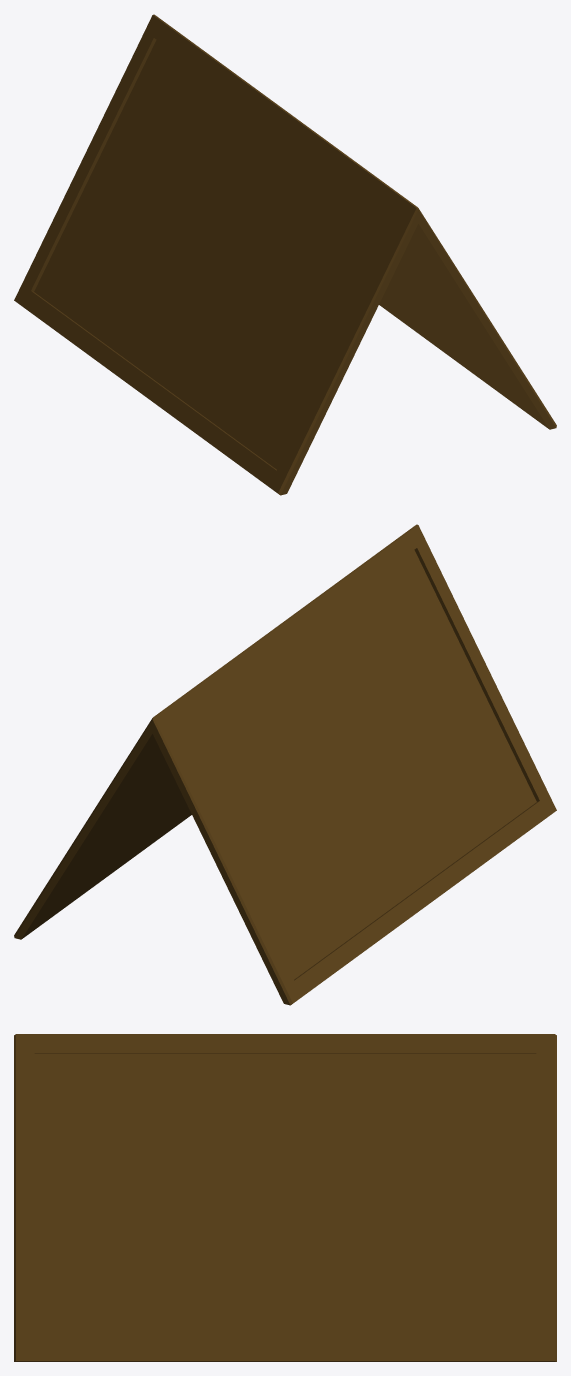
File: Sign.FBX
3 views of the same model, one above another, from view 1: azimuth 30°, elevation 25°; view 2: azimuth 150°, elevation 25°; view 3: azimuth 270°, elevation 25° (orthographic). The views are drawn at different scales.
Visible parts, largest first — view 1: Sign, BrokenSign; view 2: BrokenSign, Sign; view 3: BrokenSign, Sign.
Boxes of the visible parts, <box> form: Sign: <box>14,14,556,495</box>; BrokenSign: <box>14,14,556,495</box>; BrokenSign: <box>14,524,556,1005</box>; Sign: <box>17,524,556,1005</box>; BrokenSign: <box>14,1034,556,1361</box>; Sign: <box>14,1034,556,1361</box>.
Bounding box in the file's own units: 31.35 × 27.18 × 51.72.
